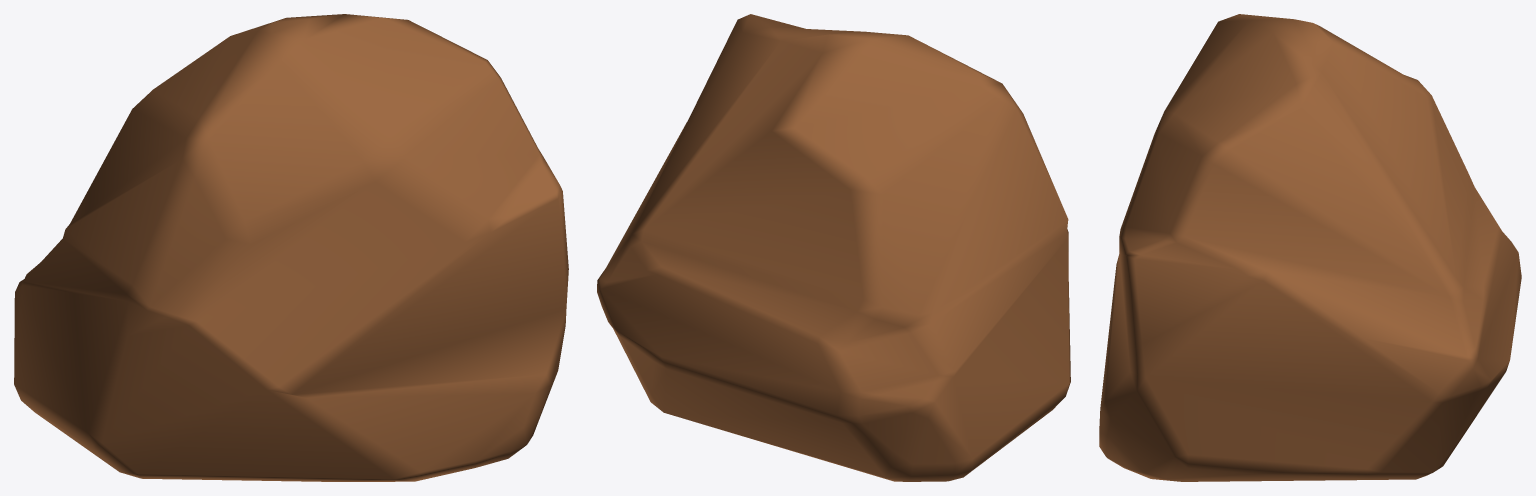
Rendered from rock-06.glb.
3 renders of one model, left to right at view 1: azimuth 30°, elevation 25°; view 2: azimuth 150°, elevation 25°; view 3: azimuth 270°, elevation 25°, orthographic. The views are drawn at different scales.
Parts seen in each view (by area): view 1: rock 06; view 2: rock 06; view 3: rock 06.
Boxes of the visible parts, x1,y1,x2,y2 form: rock 06: (14,14,568,481); rock 06: (597,14,1070,481); rock 06: (1099,14,1521,481).
Size of the model in its own units: 1.29 by 1.14 by 1.14.
Materials: 1 (1 with a texture image).
